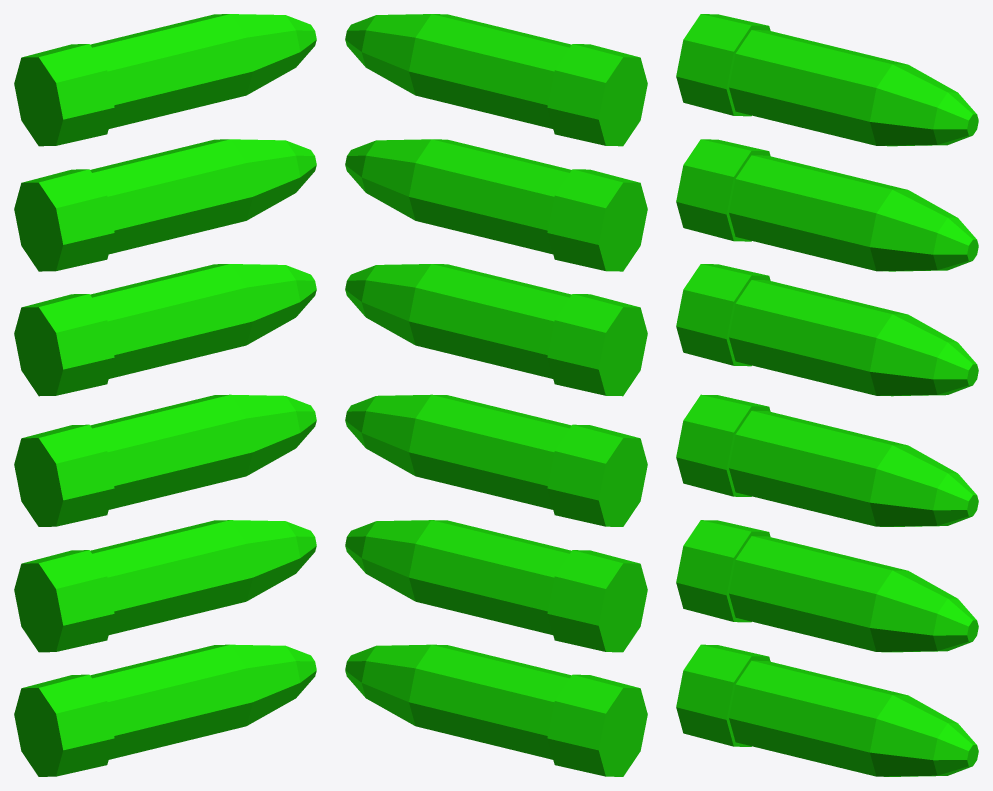
The model's file is PoweUp2.fbx.
3 renders of one model, left to right at view 1: azimuth 30°, elevation 25°; view 2: azimuth 150°, elevation 25°; view 3: azimuth 330°, elevation 25°, orthographic.
Parts seen in each view (by area): view 1: Cylinder004; view 2: Cylinder004; view 3: Cylinder004.
Part boxes in pixels (x1,y1,x2,y2): Cylinder004: (14,14,316,776); Cylinder004: (345,14,647,776); Cylinder004: (676,14,978,776).
Size of the model in its own units: 13.06 by 33.06 by 4.16.
